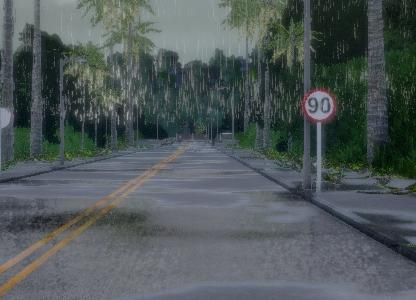Speed_90: (302, 87, 337, 123)
